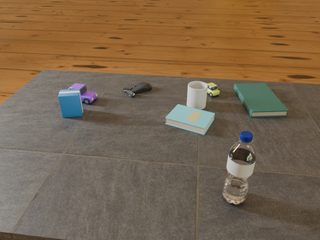book: (234, 83, 289, 117), (165, 104, 215, 135)
bottle: (222, 131, 256, 205)
box: (58, 89, 83, 117)
cup: (187, 81, 208, 109)
mouse: (123, 82, 152, 97)
toy_car: (68, 83, 97, 104), (206, 83, 219, 97)
